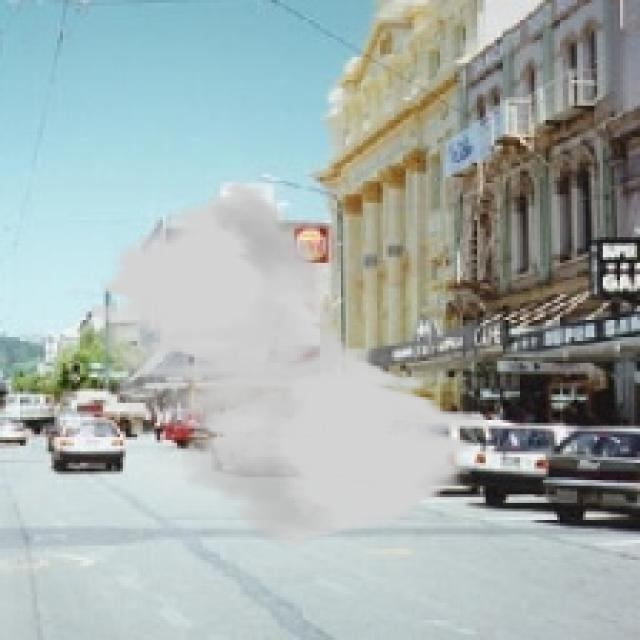smoke: (89, 180, 488, 549)
